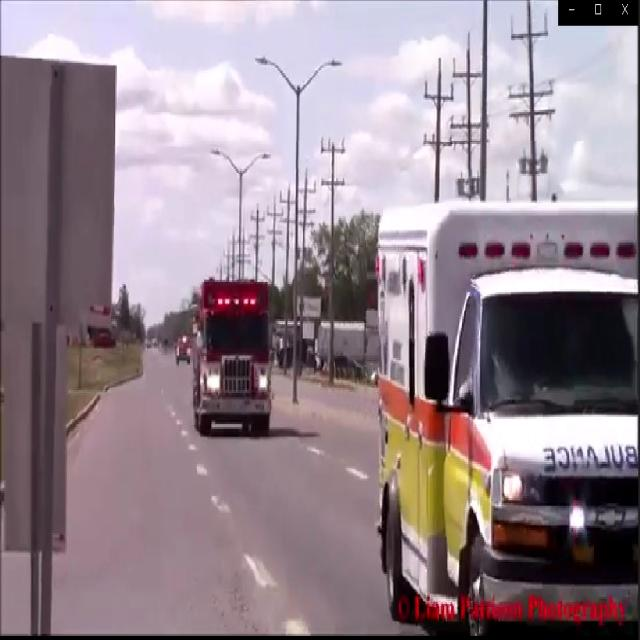emergency: (372, 198, 640, 628), (188, 274, 274, 445)
